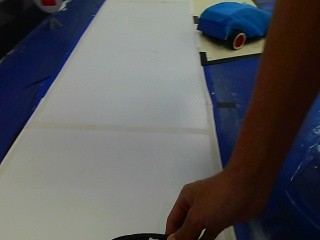car: (194, 1, 265, 49)
